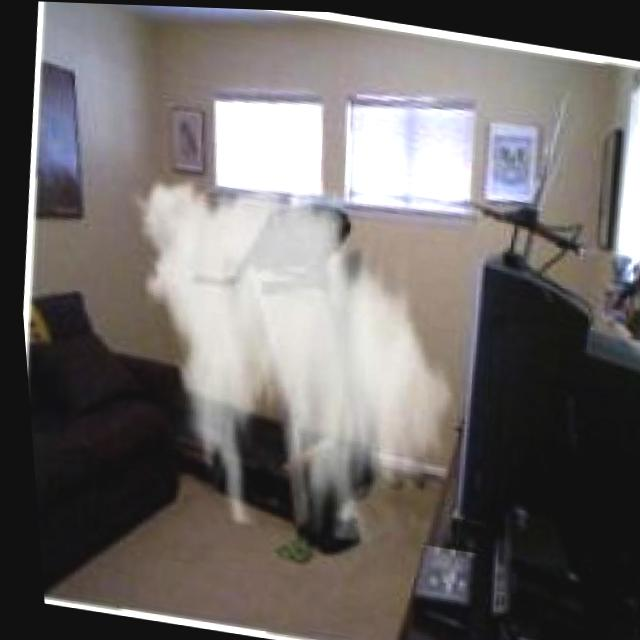Smoke: (78, 139, 490, 555)
